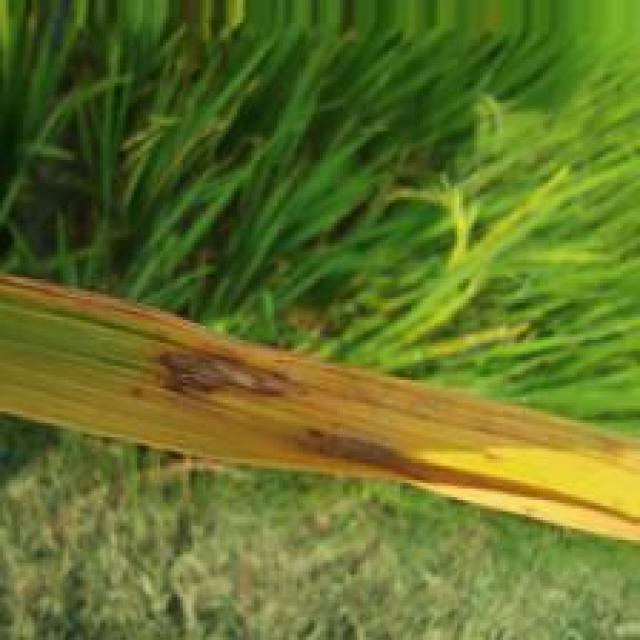Rice Tungro: (3, 272, 640, 540)
